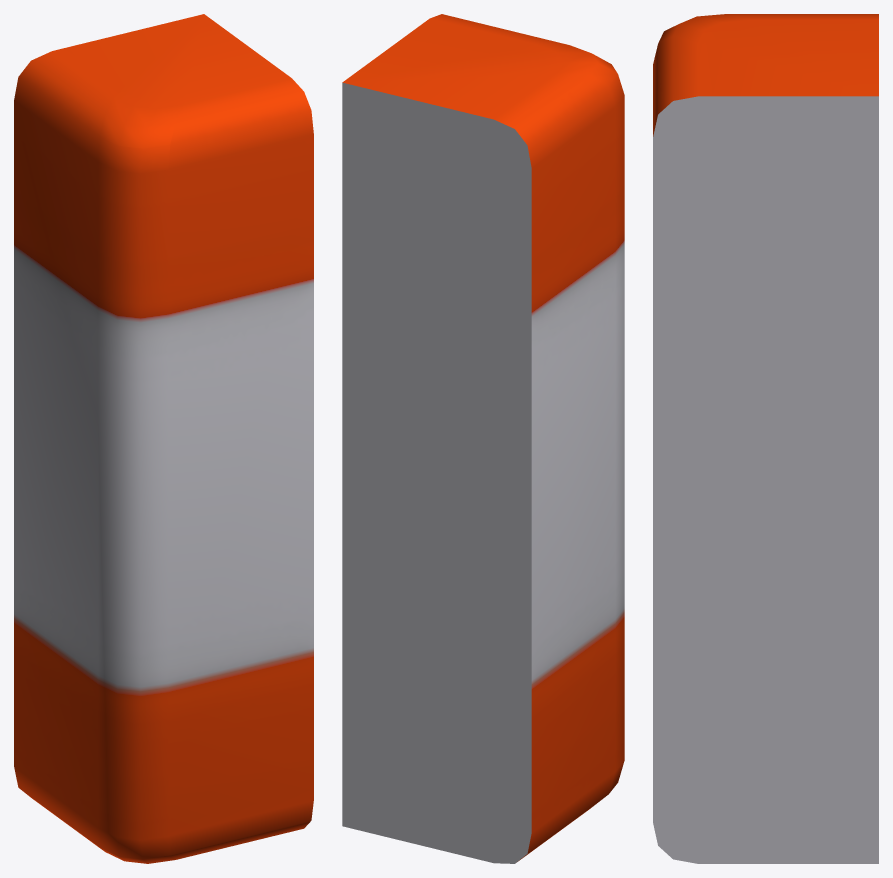
The model's file is PropTrimFacade03_1A.FBX.
3 views of the same model, side by side, from view 1: azimuth 30°, elevation 25°; view 2: azimuth 150°, elevation 25°; view 3: azimuth 270°, elevation 25° (orthographic). The views are drawn at different scales.
Parts seen in each view (by area): view 1: PropTrimFacade03_1A; view 2: PropTrimFacade03_1A; view 3: PropTrimFacade03_1A.
Part boxes in pixels (x1,y1,x2,y2): PropTrimFacade03_1A: (14, 14, 313, 863); PropTrimFacade03_1A: (342, 14, 624, 863); PropTrimFacade03_1A: (653, 14, 878, 863).
Size of what is drawn, in the model's own units: 0.2 by 0.75 by 0.2.
